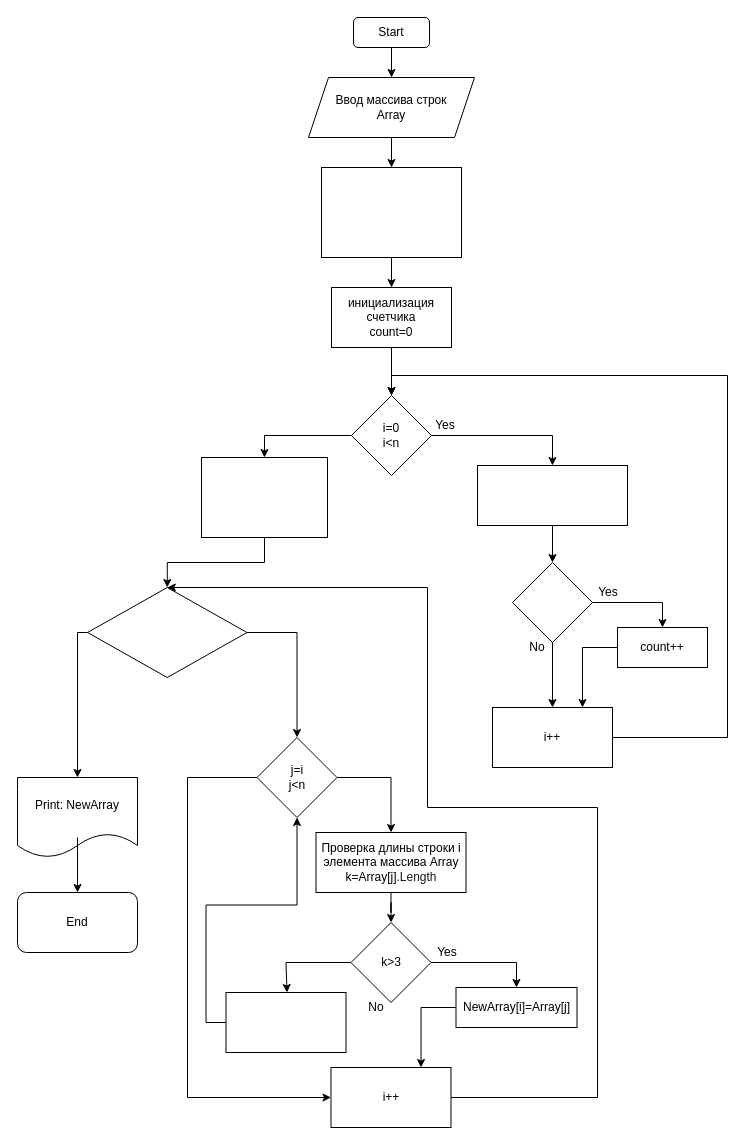
Some shapes in this 753 by 1145 pixel diagram are drawn without their labels. The centre of each missing label's shape, as x and y in pixels:
"i=0 i<NewArray.Length" belongs at point (166, 632).
"j++" belongs at point (285, 1022).
"j>3" belongs at point (552, 602).
"Инициализация нового массива строк NewArray длиной count" belongs at point (264, 497).
"Определение количества элементов массива n=array. Length" belongs at point (391, 212).
"Проверка длины строки i элемента массива Array j=Array[i] .Length" belongs at point (552, 495).
